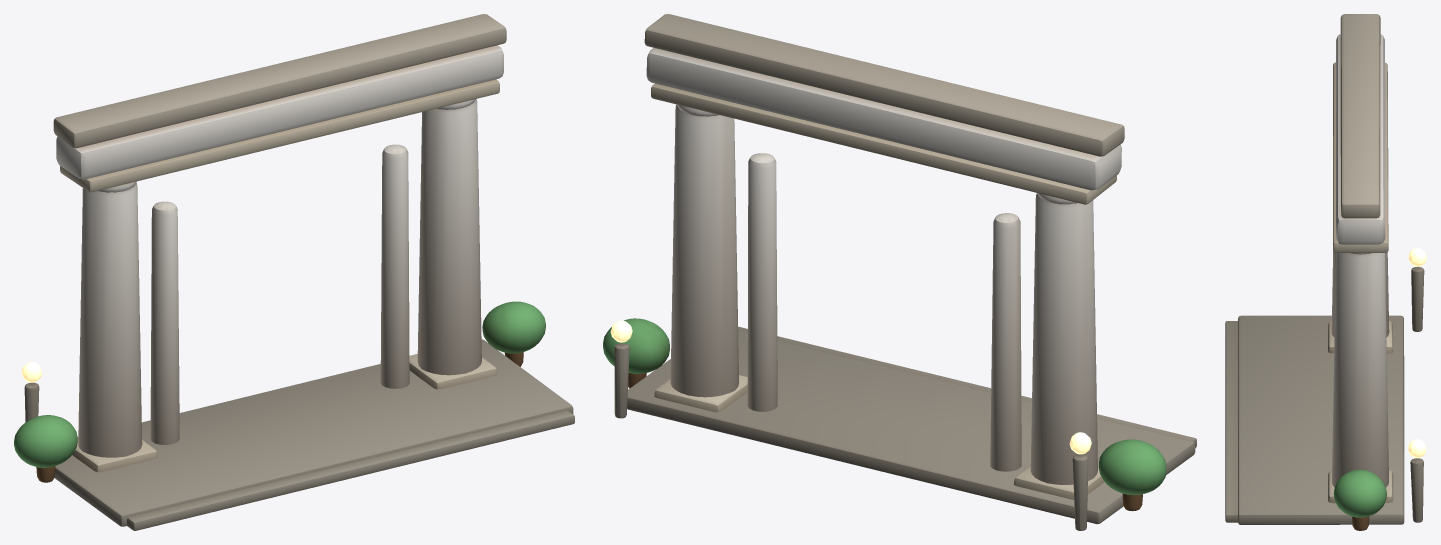
3 renders of one model, left to right at view 1: azimuth 30°, elevation 25°; view 2: azimuth 150°, elevation 25°; view 3: azimuth 270°, elevation 25°, orthographic. The views are drawn at different scales.
Parts seen in each view (by area): view 1: gate_7b6f3820; view 2: gate_7b6f3820; view 3: gate_7b6f3820.
Part boxes in pixels (x1,y1,x2,y2): gate_7b6f3820: (14,14,574,530); gate_7b6f3820: (603,14,1196,530); gate_7b6f3820: (1225,14,1426,530).
Bounding box in the file's own units: 6.93 × 4.44 × 2.54.
